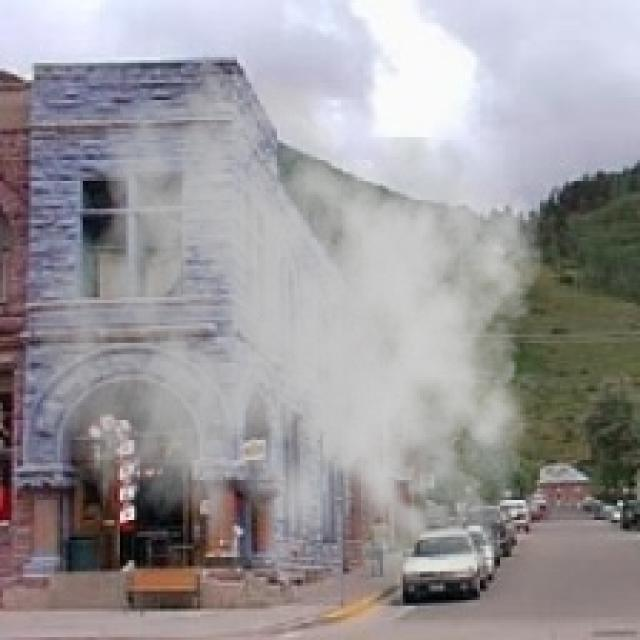Smoke: (31, 51, 560, 614)
